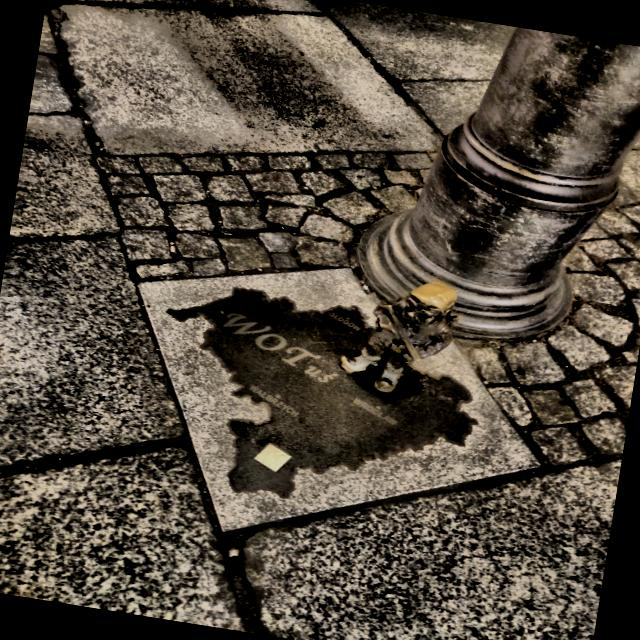WOTus: (341, 282, 457, 393)
